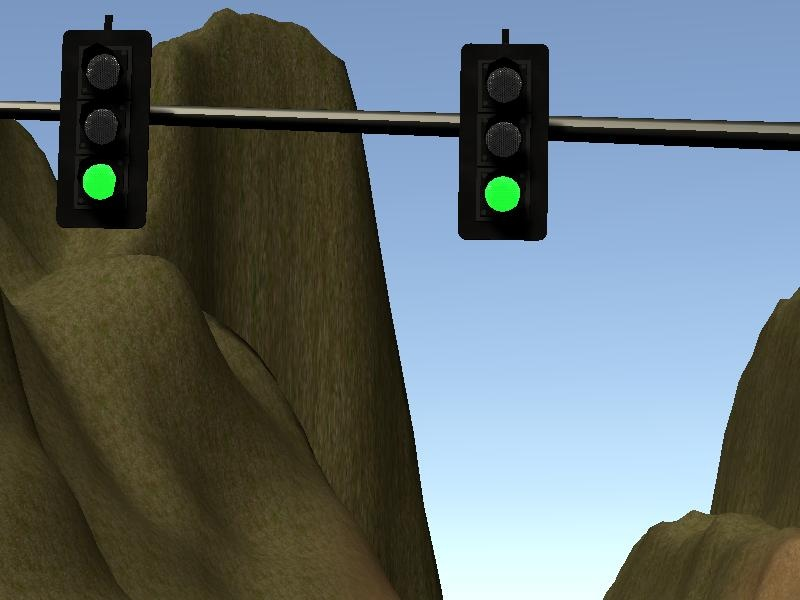green: (54, 25, 155, 231), (451, 40, 551, 247)
